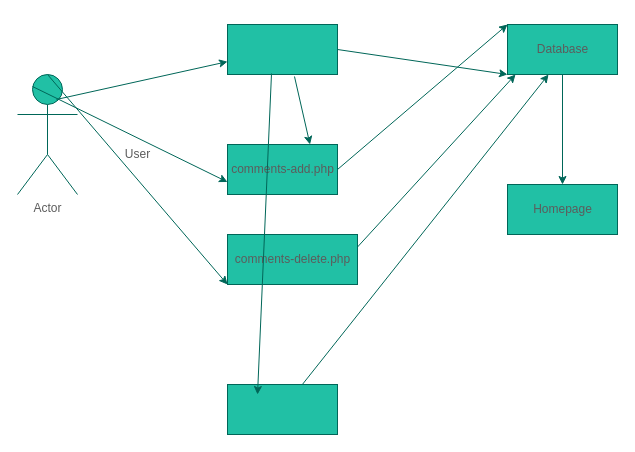
This 635x452 diagram has some shape labels left out. Here are the shapes that lost their labels. From the top down, the centre of each, then its label:
pixel 282 49: mycomments.php
pixel 282 409: db.php
